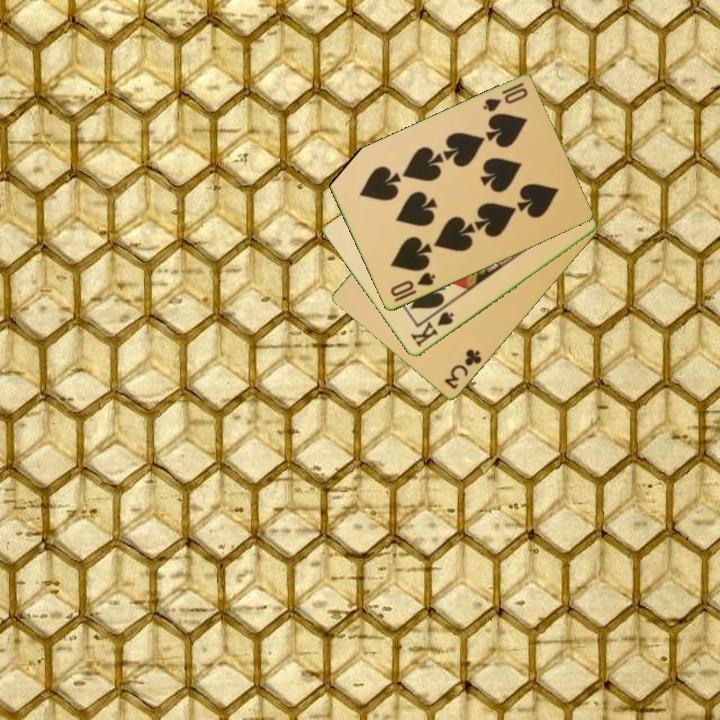10s: (479, 79, 531, 115), (387, 269, 438, 305)
3c: (441, 346, 485, 393)
Ks: (407, 308, 457, 351)
